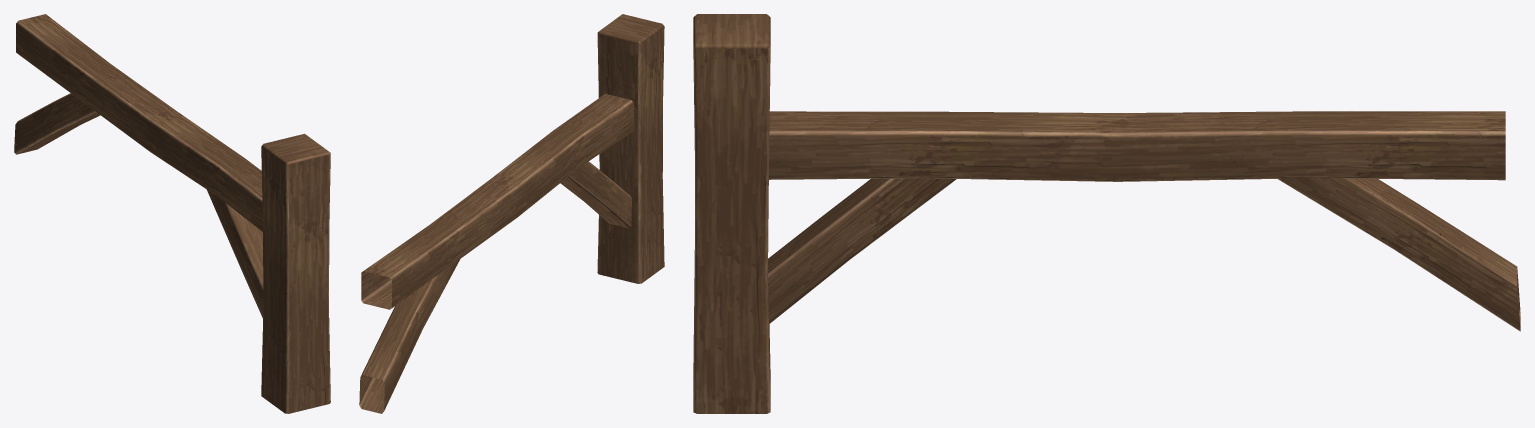
The model's file is SM_Fence_02.fbx.
3 views of the same model, side by side, from view 1: azimuth 30°, elevation 25°; view 2: azimuth 150°, elevation 25°; view 3: azimuth 270°, elevation 25° (orthographic). The views are drawn at different scales.
Parts seen in each view (by area): view 1: SM_Fence_02_LOD0; view 2: SM_Fence_02_LOD0; view 3: SM_Fence_02_LOD0.
Part boxes in pixels (left/top/right/bottom): SM_Fence_02_LOD0: left=14, top=14, right=330, bottom=413; SM_Fence_02_LOD0: left=359, top=14, right=664, bottom=413; SM_Fence_02_LOD0: left=693, top=14, right=1520, bottom=413.
Size of the model in its own units: 20 by 213 by 105.
Materials: 1 (1 with a texture image).
